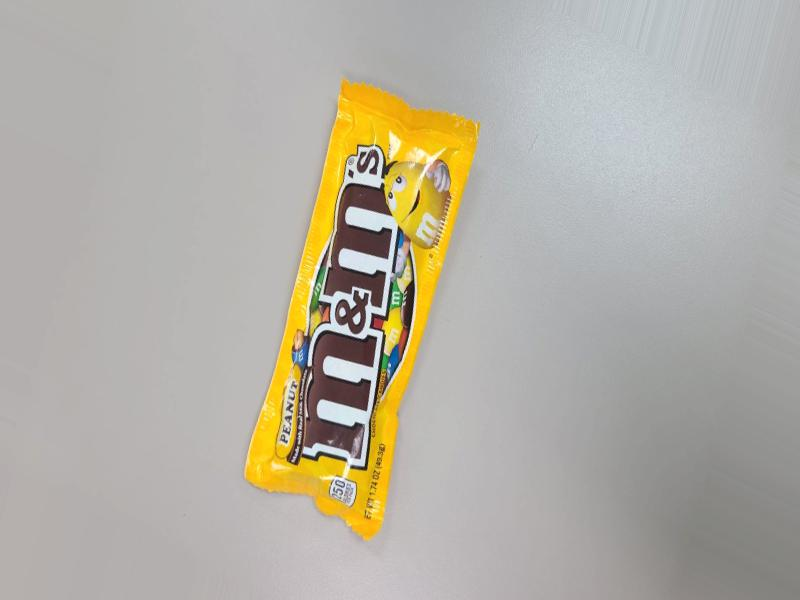m&m: (246, 64, 459, 517)
